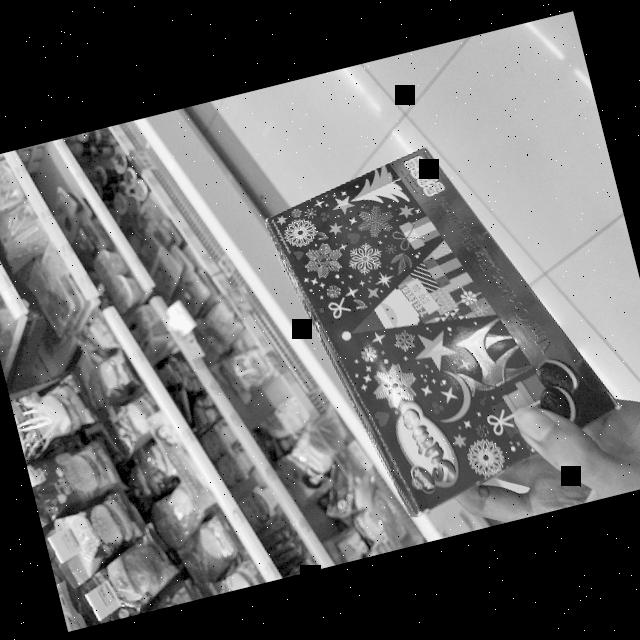cardboard_box: (241, 100, 640, 539)
